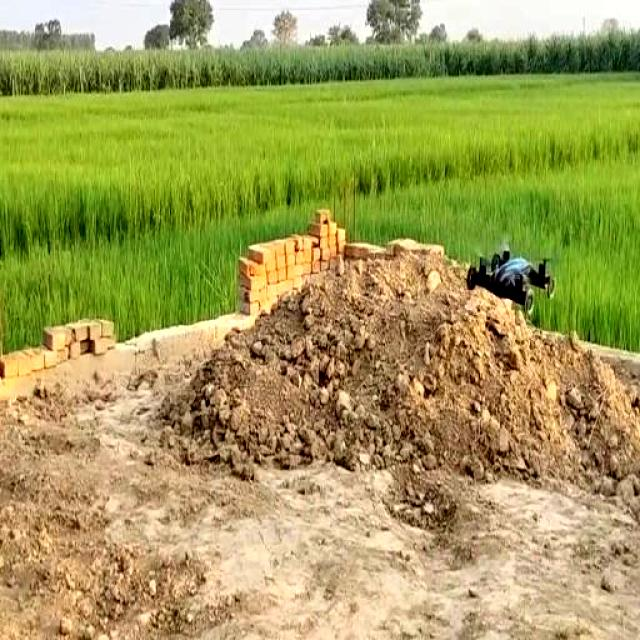bird: (458, 218, 559, 320)
